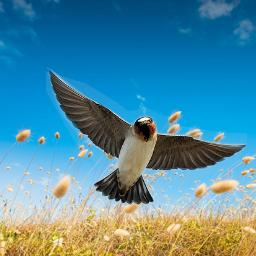Swallow: (46, 67, 247, 205)
